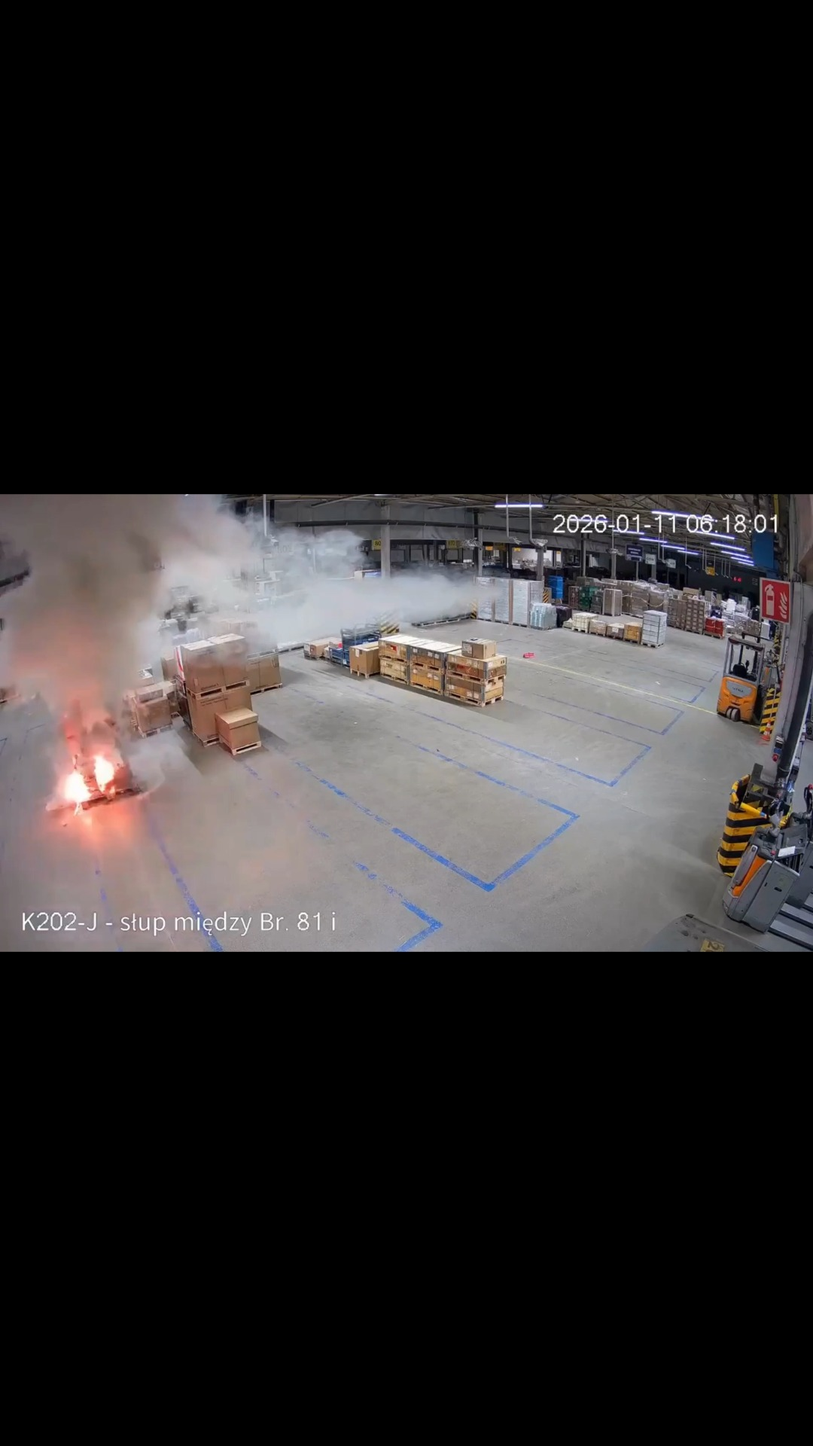fire: (56, 705, 129, 810)
smoke: (0, 495, 483, 770)
